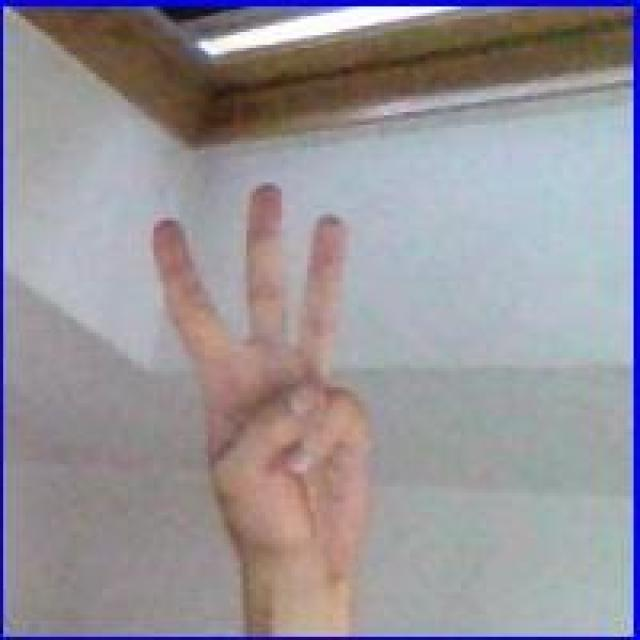W: (144, 176, 378, 573)
